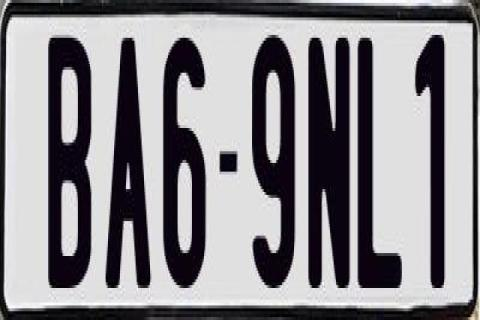0: (252, 26, 302, 294), (162, 35, 208, 291), (414, 32, 446, 291)
A: (106, 38, 154, 291)
B: (46, 35, 88, 291)
L: (358, 35, 410, 291)
N: (308, 32, 350, 288)
